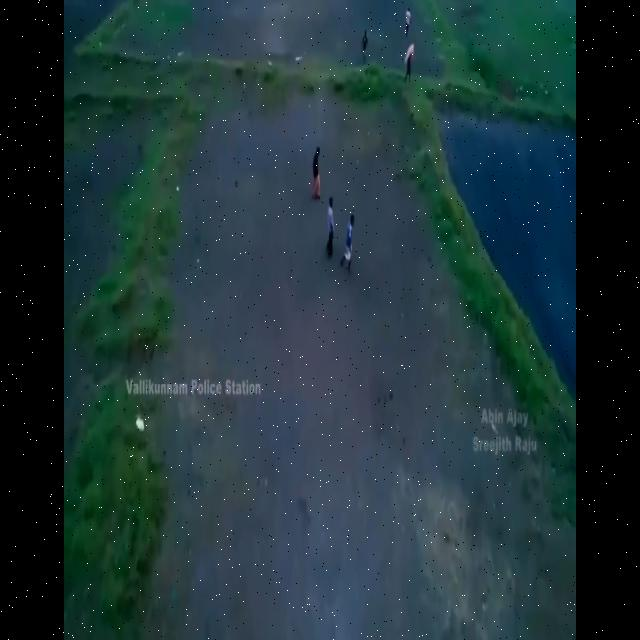humans: (341, 204, 359, 278), (323, 188, 338, 264), (402, 37, 418, 87), (311, 135, 322, 204), (359, 22, 374, 63), (402, 0, 414, 40)
